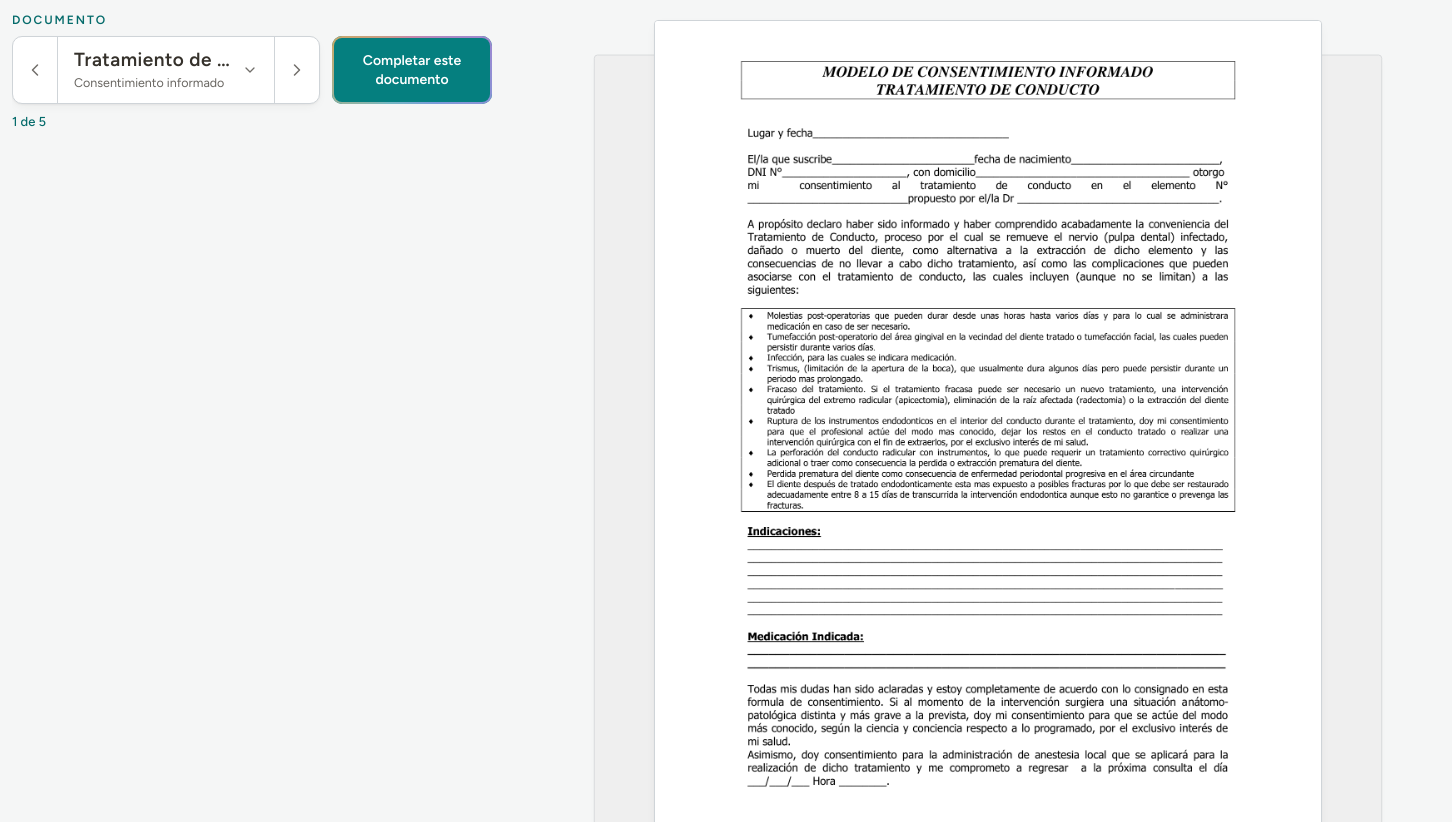
Scenario: ModuloDocumentos › un salto con el menú a un documento que no asomaba entra y sale de lejos
The width and height of the screenshot is (1452, 822).
Click the button with aria-label "Elegir documento: Tratamiento de conducto" at (166,70), box 57,37 -> 275,103
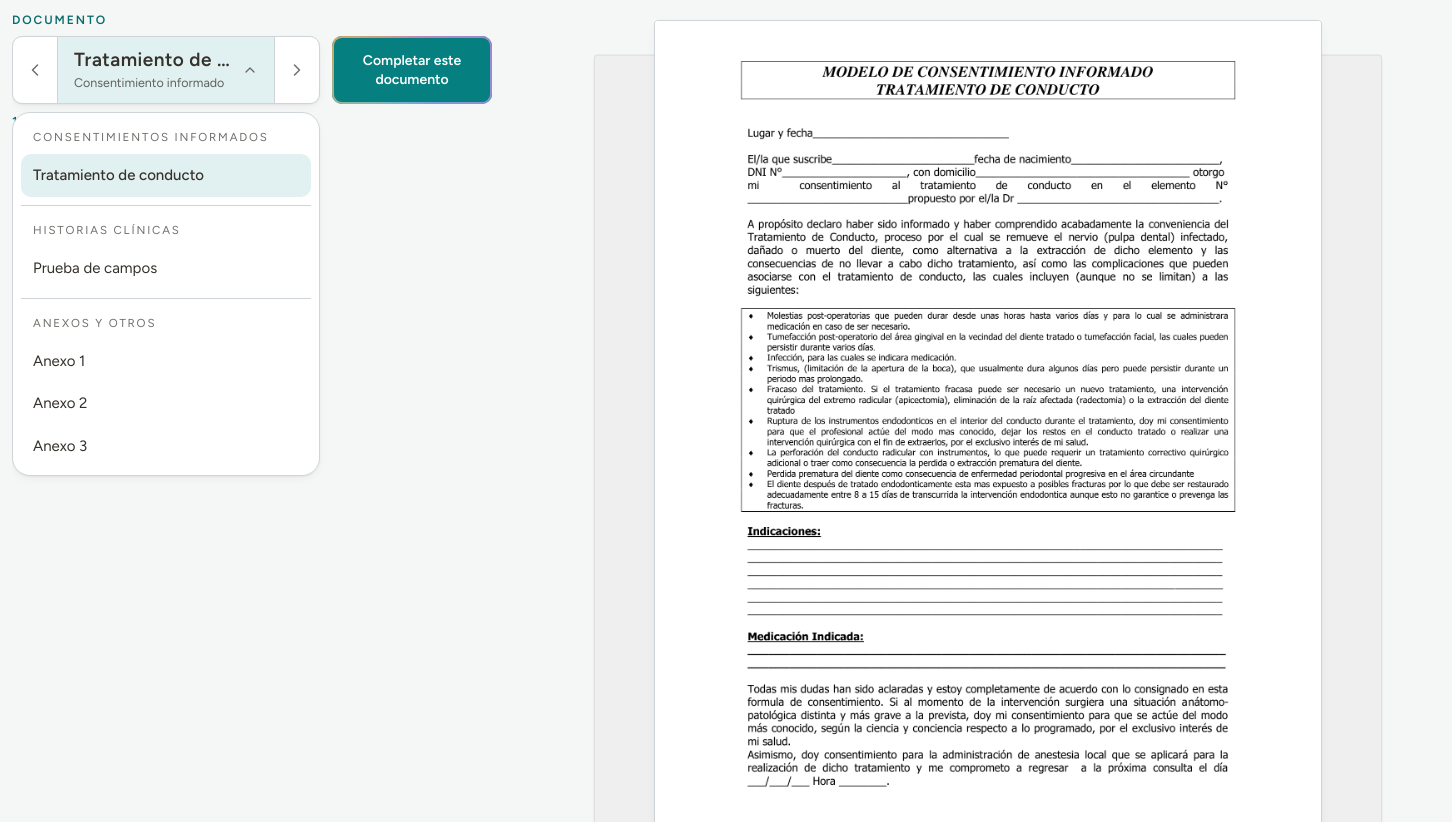
Click the button "Anexo 2" at (60,403), box 21,382 -> 311,425
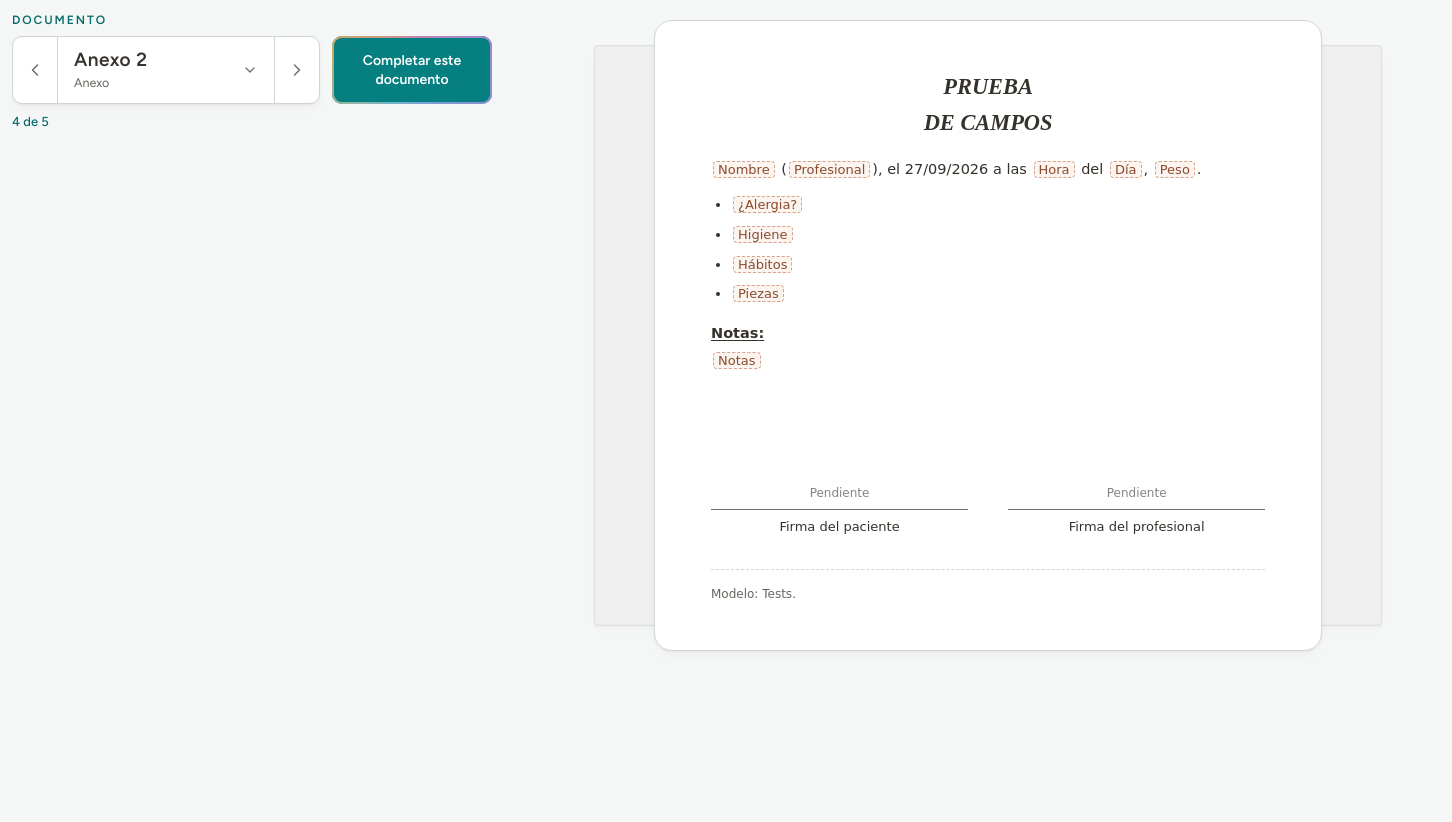
Check: the element that starts with "Prueba" is shown, box 654,20 -> 1322,651
